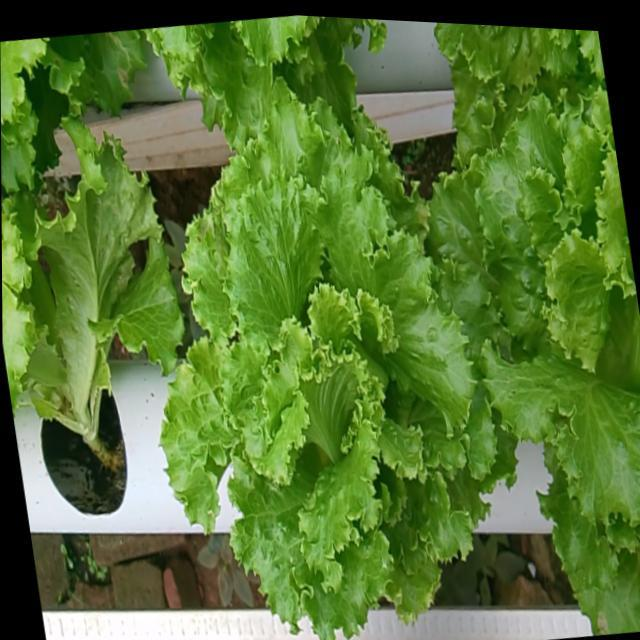Mature: (155, 98, 494, 640), (427, 97, 640, 537)
